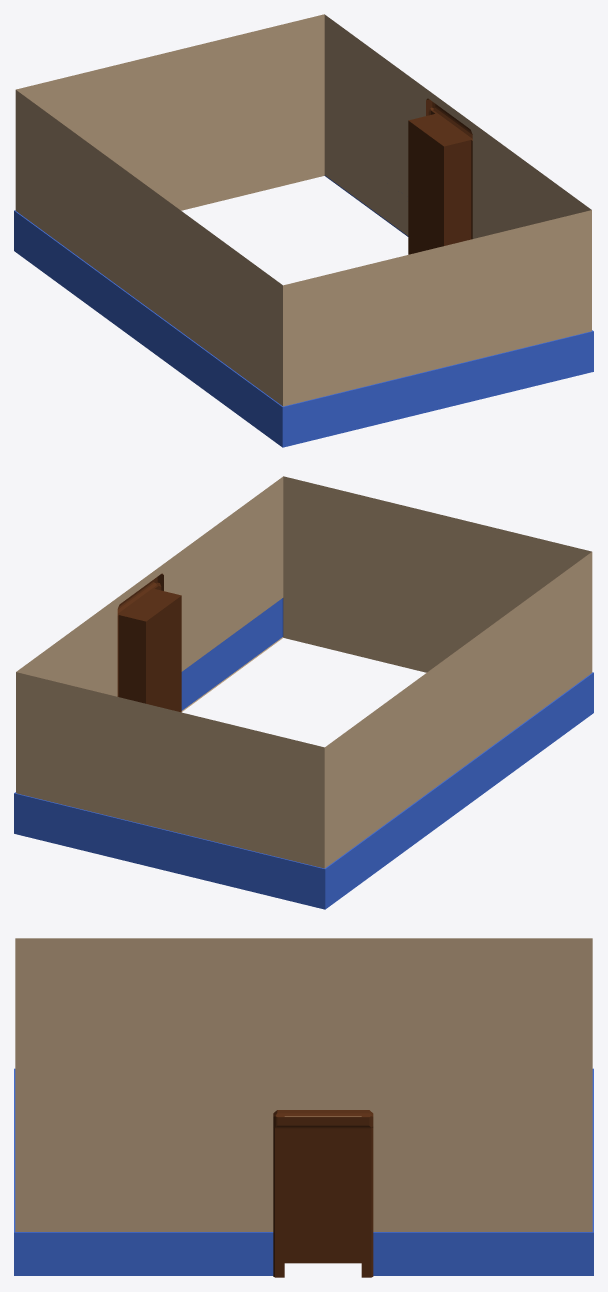
File: Stucco bottom Corner 6x3x4.fbx
The picture shows the model from 3 angles, top to bottom: view 1: azimuth 30°, elevation 25°; view 2: azimuth 150°, elevation 25°; view 3: azimuth 270°, elevation 25°; orthographic projection. The views are drawn at different scales.
Visible parts, largest first — view 1: Stucco bottom Corner 8; view 2: Stucco bottom Corner 8; view 3: Stucco bottom Corner 8.
Part boxes in pixels (x1,y1,x2,y2): Stucco bottom Corner 8: (14, 14, 593, 447); Stucco bottom Corner 8: (14, 476, 593, 909); Stucco bottom Corner 8: (14, 938, 593, 1277).
Size of the model in its own units: 413 by 200 by 603.
